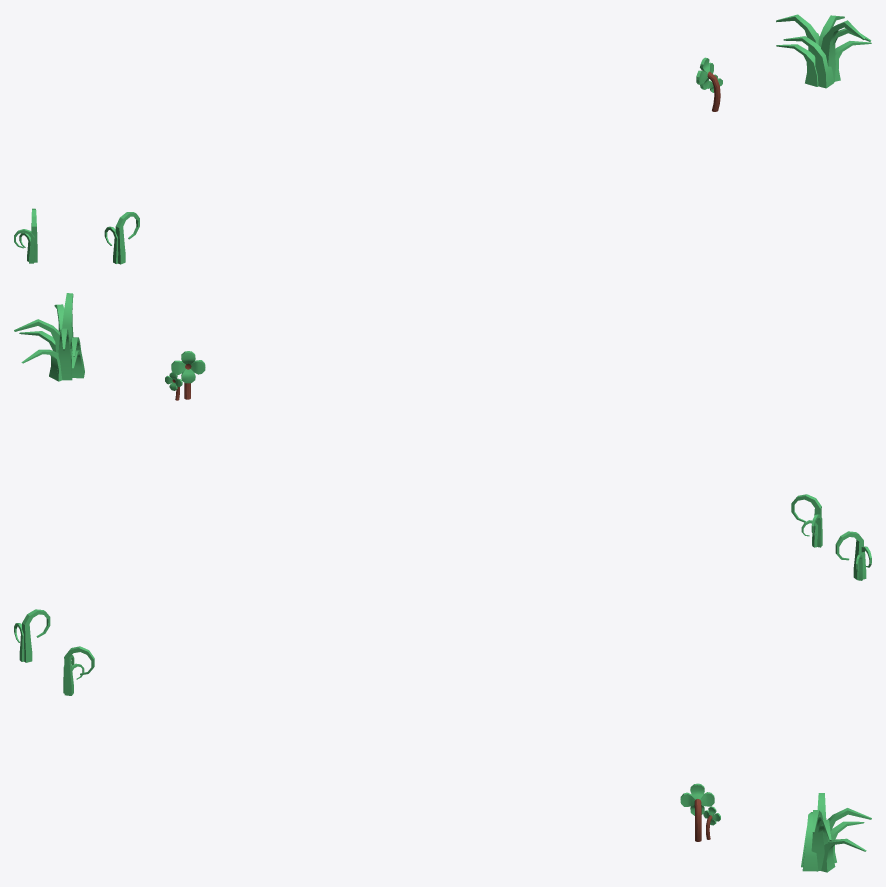
The model's file is Grass.fbx.
3 renders of one model, top to bottom at view 1: azimuth 30°, elevation 25°; view 2: azimuth 150°, elevation 25°; view 3: azimuth 330°, elevation 25°, orthographic. The views are drawn at different scales.
Visible parts, largest first — view 1: polySurface41, pTorus5, pTorus4; view 2: polySurface41, pTorus4, pTorus5, polySurface77; view 3: polySurface41, pTorus4, pTorus5, polySurface77.
Part boxes in pixels (left/top/right/bottom): polySurface41: left=776, top=14, right=871, bottom=88; pTorus5: left=104, top=212, right=139, bottom=264; pTorus4: left=14, top=208, right=37, bottom=263; polySurface41: left=14, top=293, right=84, bottom=381; pTorus4: left=835, top=531, right=871, bottom=580; pTorus5: left=791, top=494, right=822, bottom=547; polySurface77: left=171, top=351, right=205, bottom=383; polySurface41: left=801, top=793, right=871, bottom=872; pTorus4: left=14, top=609, right=50, bottom=662; pTorus5: left=63, top=646, right=94, bottom=695; polySurface77: left=680, top=783, right=714, bottom=815.
Bounding box in the file's own units: 23.88 × 1.78 × 2.52.
